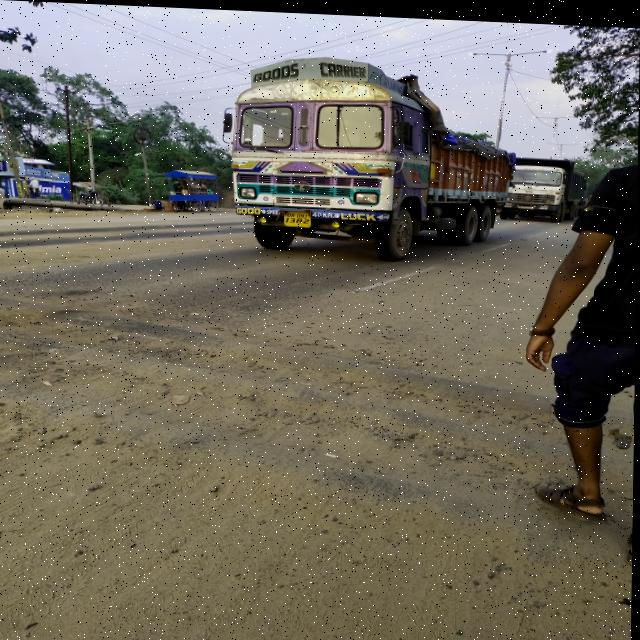plate: (285, 208, 312, 225), (518, 201, 534, 205)
